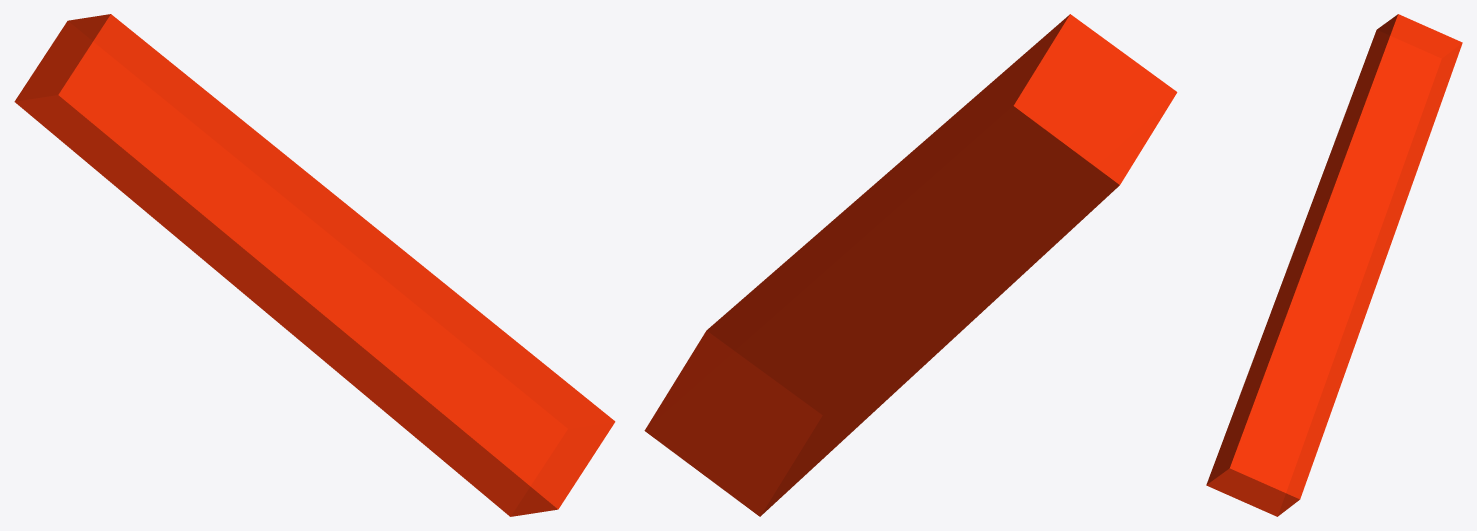
Rendered from Event_421556567_EBrechit_20.fbx.
The picture shows the model from 3 angles, left to right: view 1: azimuth 30°, elevation 25°; view 2: azimuth 150°, elevation 25°; view 3: azimuth 270°, elevation 25°; orthographic projection. The views are drawn at different scales.
Parts seen in each view (by area): view 1: Model; view 2: Model; view 3: Model.
Boxes of the visible parts, x1,y1,x2,y2 form: Model: (14,14,615,516); Model: (644,14,1177,516); Model: (1206,14,1462,516).
Size of the model in its own units: 0.3032 by 0.3294 by 0.1977.
